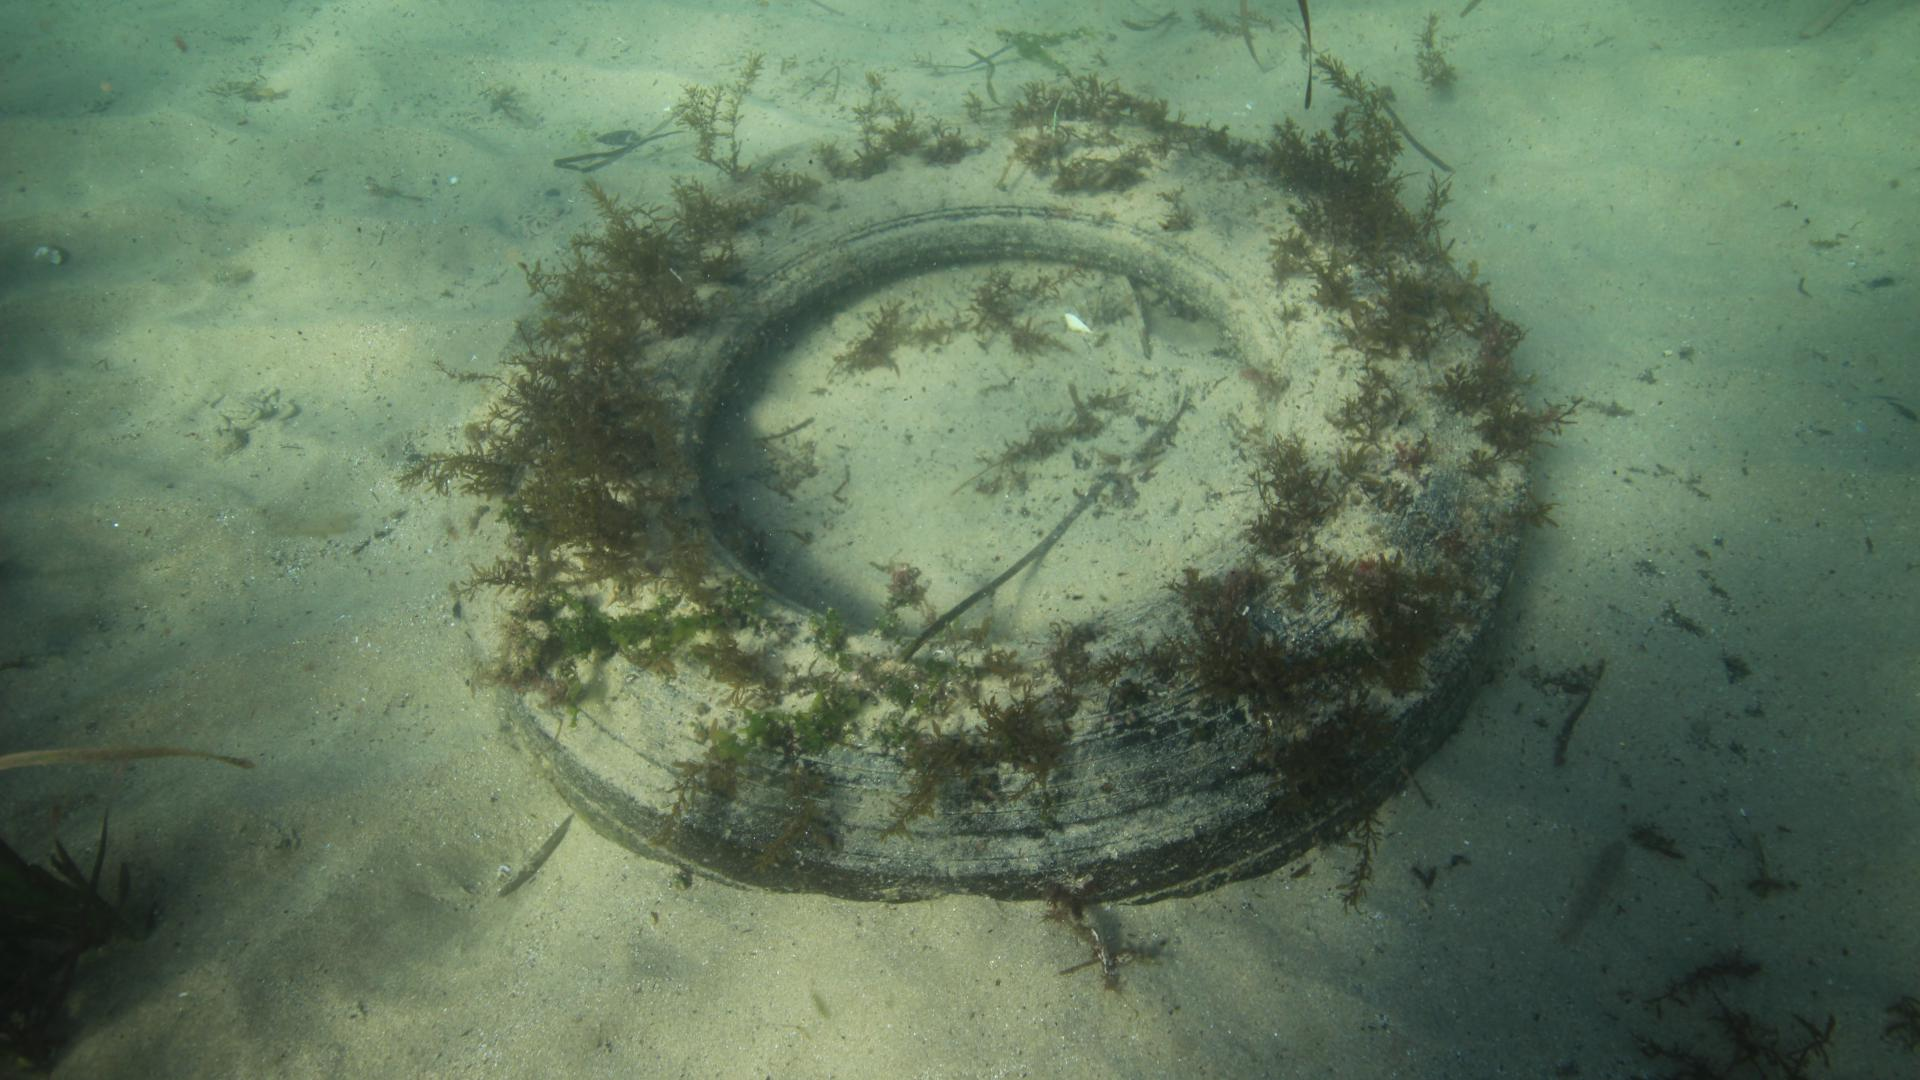tire: (444, 102, 1534, 910)
